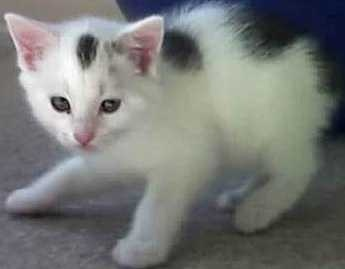Cat: (4, 13, 166, 242)
